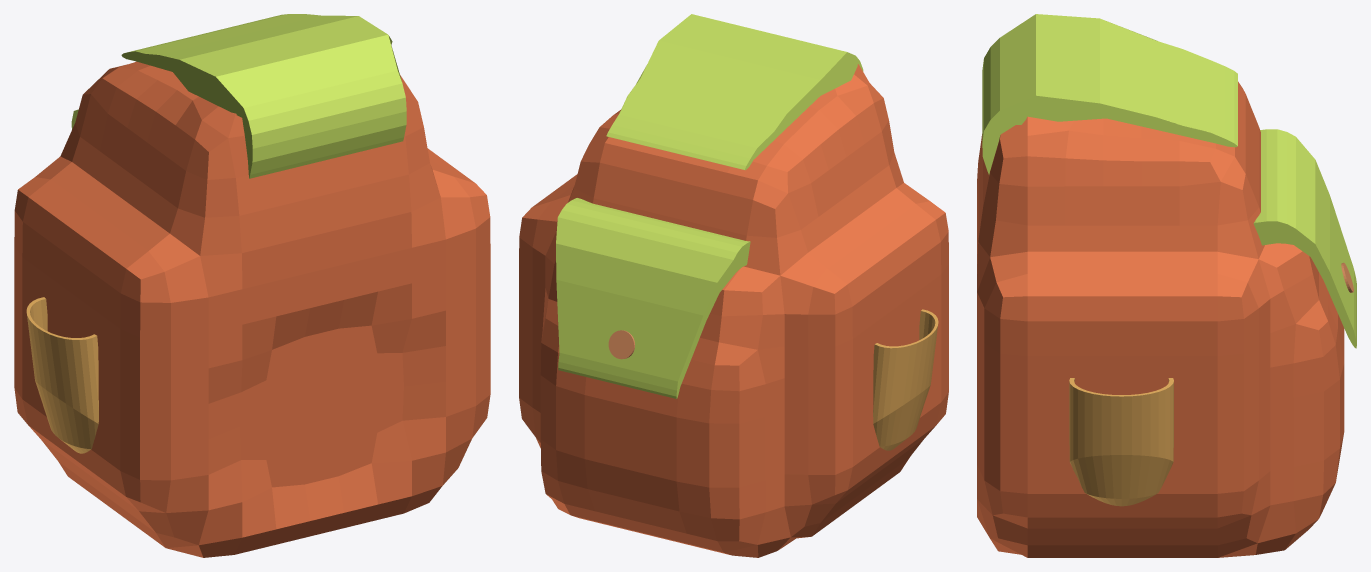
Rendered from sac a dos.fbx.
The picture shows the model from 3 angles, left to right: view 1: azimuth 30°, elevation 25°; view 2: azimuth 150°, elevation 25°; view 3: azimuth 270°, elevation 25°; orthographic projection. The views are drawn at different scales.
Visible parts, largest first — view 1: Cube.001, Cube.004, Cube.006; view 2: Cube.001, Cube.002, Cube.004, Cube.006, Cube.003; view 3: Cube.001, Cube.004, Cube.005, Cube.002.
Part boxes in pixels (x1=…): Cube.001: x1=14, y1=61, x2=490, y2=557; Cube.004: x1=121, y1=14, x2=406, y2=178; Cube.006: x1=26, y1=297, x2=98, y2=453; Cube.001: x1=519, y1=64, x2=948, y2=557; Cube.002: x1=556, y1=198, x2=750, y2=398; Cube.004: x1=606, y1=14, x2=863, y2=170; Cube.006: x1=873, y1=309, x2=938, y2=450; Cube.003: x1=608, y1=330, x2=634, y2=359; Cube.001: x1=977, y1=81, x2=1344, y2=557; Cube.004: x1=982, y1=14, x2=1237, y2=174; Cube.005: x1=1069, y1=378, x2=1173, y2=506; Cube.002: x1=1253, y1=129, x2=1356, y2=348.
Bounding box in the file's own units: 208 × 216 × 165.
